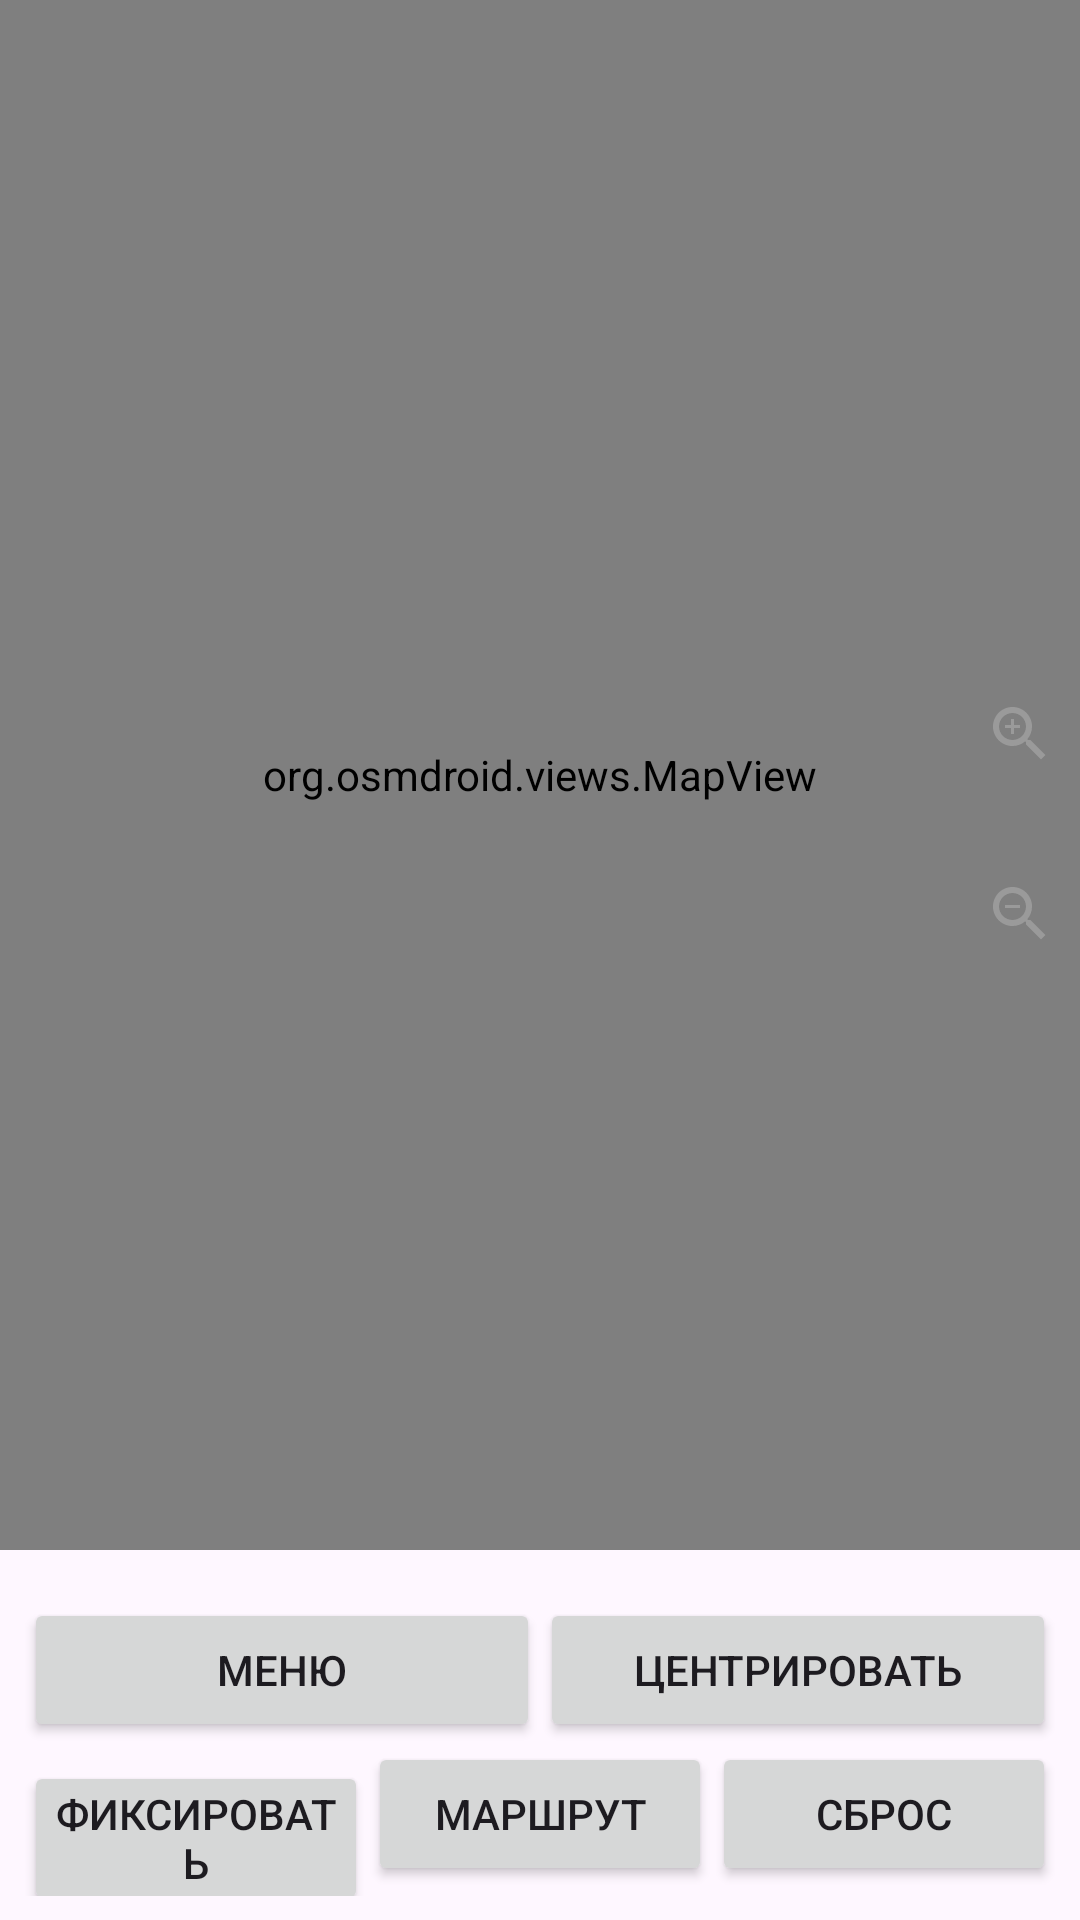

Where to tap for icons on this 1080 × 1920 app screen, as [x,y]:
minus: [1018,912]
plus: [1018,732]
